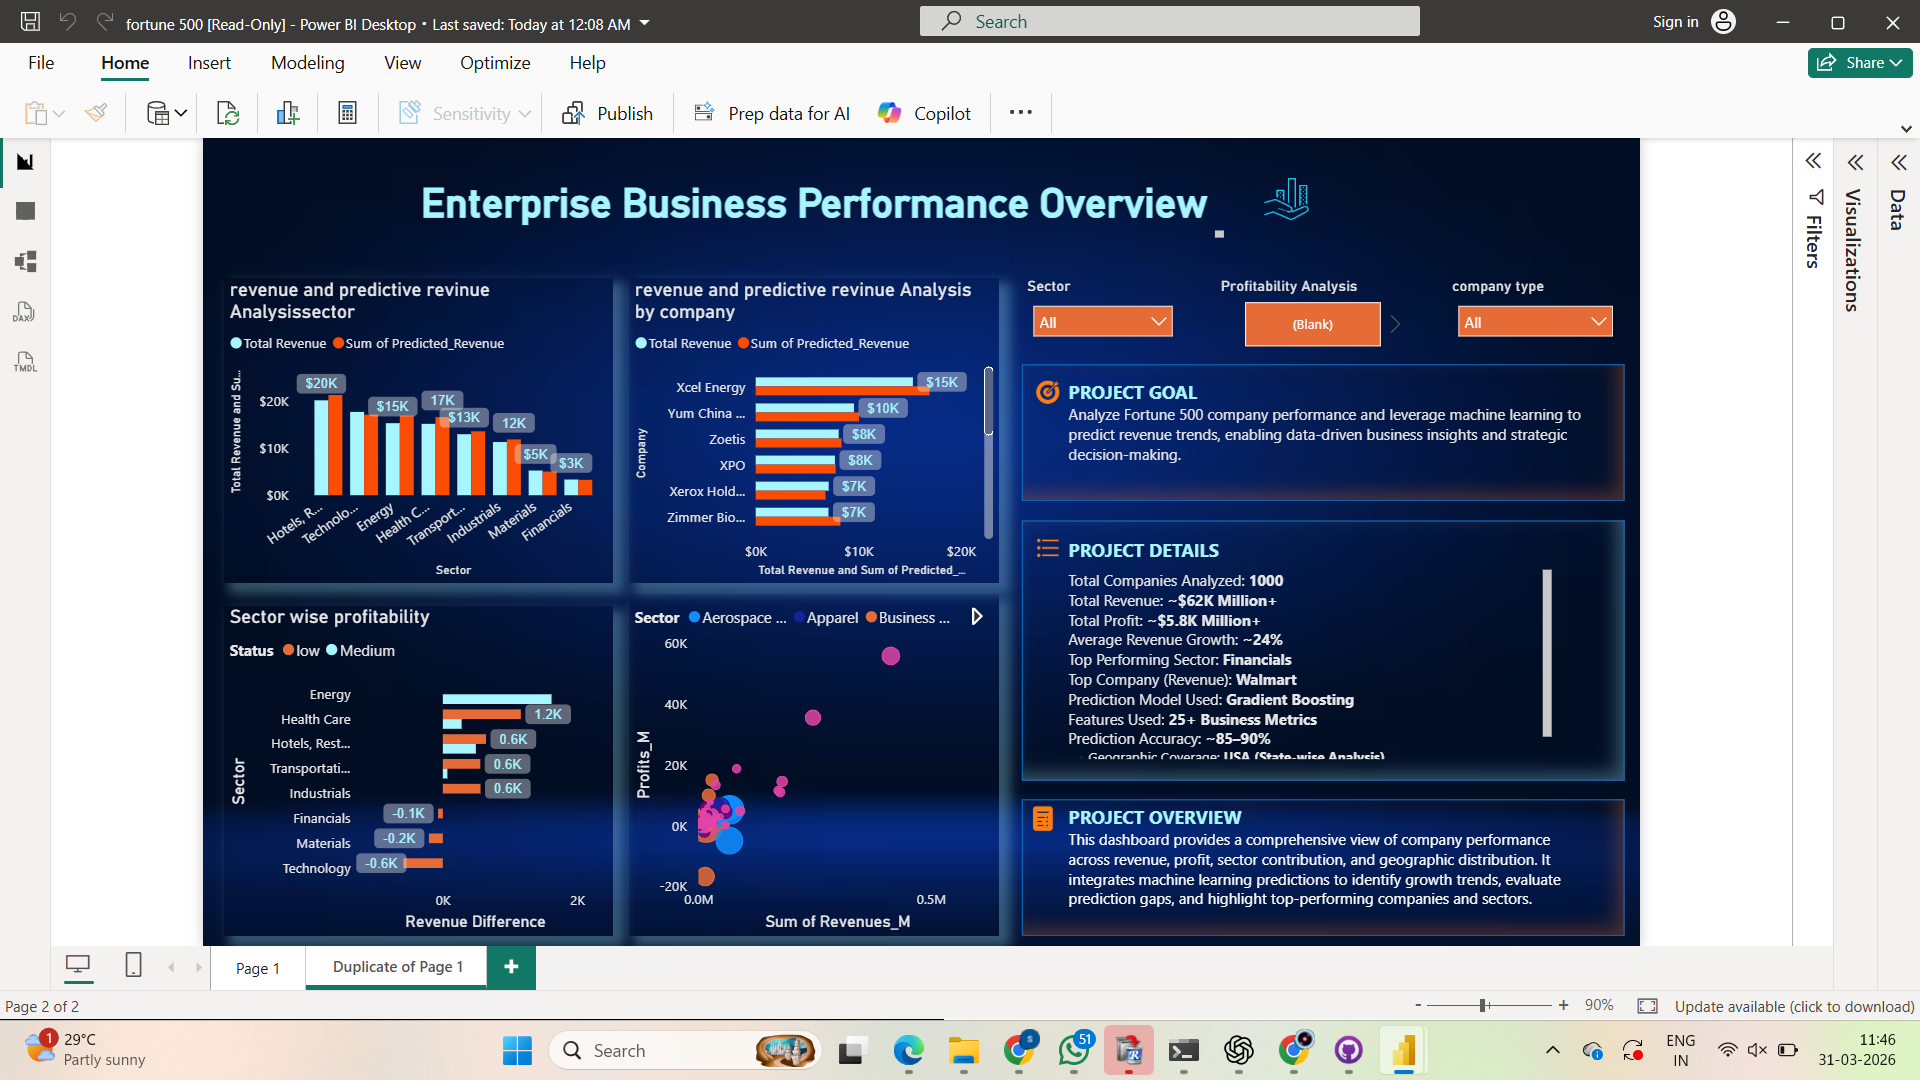

The page's visual inventory and layout, read from the dashboard file:
{"tool":"powerbi","page":{"name":"Duplicate of Page 1","canvas":[1280,720],"ordinal":1},"visuals":[{"type":"clusteredColumnChart","title":"revenue and predictive revinue Analysissector","fields":{"Category":["final_predictions (4).Sector"],"Y":["final_predictions (4).Total Revenue","Sum(final_predictions (4).Predicted_Revenue)"]},"box":[19.3,124.3,346.2,271.4],"z":0},{"type":"clusteredBarChart","title":"revenue and predictive revinue Analysis by company","fields":{"Category":["final_predictions (4).Company"],"Y":["final_predictions (4).Total Revenue","Sum(final_predictions (4).Predicted_Revenue)"]},"box":[380,124.3,329.4,271.4],"z":1000},{"type":"clusteredBarChart","title":"Sector wise profitability","fields":{"Y":["final_predictions (4).Revenue Difference"],"Category":["final_predictions (4).Sector"],"Series":["final_predictions (4).Status"]},"box":[19.3,416.2,346.2,294.4],"z":2000},{"type":"shape","box":[728.7,201.5,536.9,121.9],"z":3000},{"type":"shape","box":[728.7,340.2,536.9,231.6],"z":4000},{"type":"shape","box":[728.7,588.7,536.9,121.9],"z":5000},{"type":"scatterChart","fields":{"X":["Sum(final_predictions (4).Revenues_M)"],"Y":["final_predictions (4).Profits_M"],"Series":["final_predictions (4).Sector"],"Size":["Sum(final_predictions (4).Number_of_employees)"]},"box":[380,406.6,329.4,304],"z":6000},{"type":"slicer","title":"Sector","fields":{"Values":["final_predictions (4).Sector"]},"box":[728.7,124.3,144.8,67.6],"z":7000},{"type":"slicer","title":"Profitability Analysis","fields":{"Values":["final_predictions (4).Status"]},"box":[901.2,124.3,171.3,67.6],"z":8000},{"type":"slicer","title":"company type","fields":{"Values":["final_predictions (4).CompanyType"]},"box":[1107.5,124.3,158,67.6],"z":9000},{"type":"textbox","title":"Enterprise Business Performance Overview","box":[174.9,36.2,739.5,56.7],"z":10000},{"type":"textbox","box":[766.1,209.9,486.2,95.3],"z":11000},{"type":"textbox","box":[766.1,380,440.4,178.6],"z":12000},{"type":"textbox","box":[766.1,588.7,477.8,121.9],"z":13000},{"type":"image","box":[728.7,209.9,45.8,32.6],"z":14000},{"type":"image","box":[728.7,351.1,45.8,29],"z":15000},{"type":"image","box":[728.7,588.7,37.4,35],"z":16000},{"type":"textbox","box":[766.1,351.1,381.2,37.4],"z":16001},{"type":"image","box":[901.2,25.3,126.7,57.9],"z":16002}]}

Visuals, with their boxes on the page's 1280x720 design canvas (x1, y1, x2, y2). These are canvas units, not pixel positions in the 1920x1080 screenshot, which may show the page scaled, cropped or inside an application window:
"revenue and predictive revinue Analysissector" clusteredColumnChart: 19:124:366:396
"revenue and predictive revinue Analysis by company" clusteredBarChart: 380:124:709:396
"Sector wise profitability" clusteredBarChart: 19:416:366:711
shape: 729:202:1266:323
shape: 729:340:1266:572
shape: 729:589:1266:711
scatterChart - Sum(final_predictions (4).Revenues_M) x final_predictions (4).Profits_M: 380:407:709:711
"Sector" slicer: 729:124:874:192
"Profitability Analysis" slicer: 901:124:1072:192
"company type" slicer: 1108:124:1266:192
"Enterprise Business Performance Overview" textbox: 175:36:914:93
textbox: 766:210:1252:305
textbox: 766:380:1206:559
textbox: 766:589:1244:711
image: 729:210:774:242
image: 729:351:774:380
image: 729:589:766:624
textbox: 766:351:1147:388
image: 901:25:1028:83
